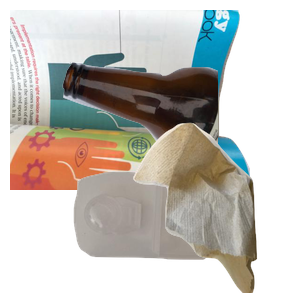glass: (60, 59, 300, 217)
paper: (10, 10, 250, 190)
plastic: (71, 169, 275, 300)
trash: (131, 120, 300, 300)
